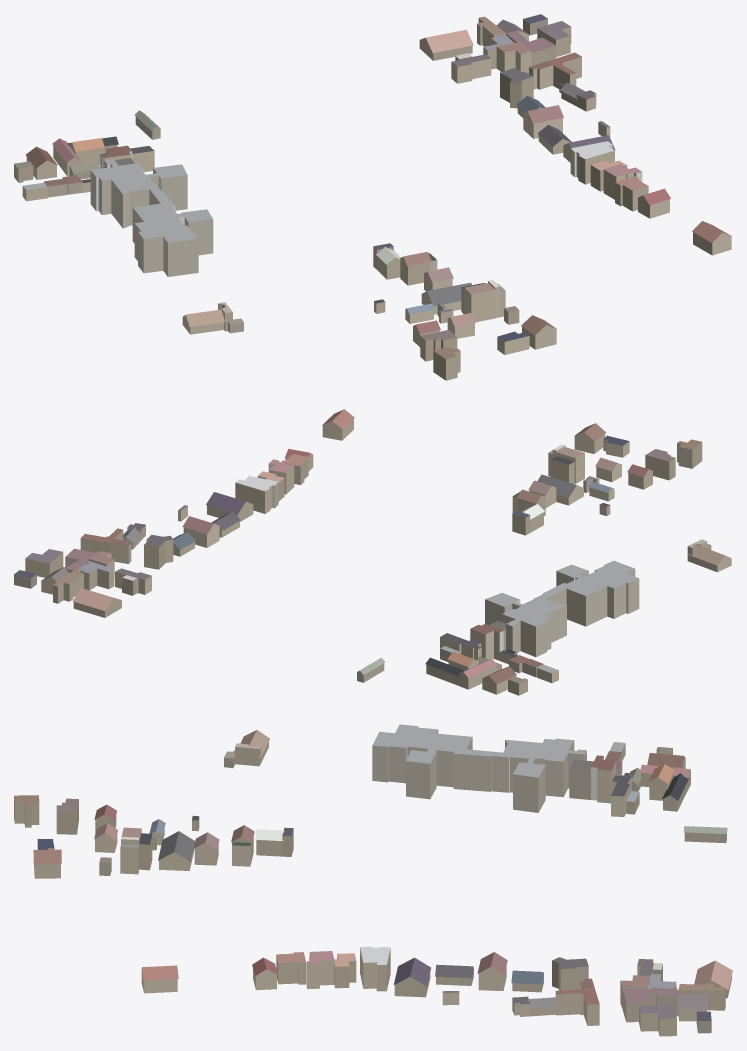
3 renders of one model, top to bottom at view 1: azimuth 30°, elevation 25°; view 2: azimuth 150°, elevation 25°; view 3: azimuth 270°, elevation 25°, orthographic. The views are drawn at different scales.
Parts seen in each view (by area): view 1: tuile; view 2: tuile; view 3: tuile.
Boxes of the visible parts, <box> form: tuile: <box>14,14,731,380</box>; tuile: <box>14,409,731,695</box>; tuile: <box>14,724,732,1036</box>.
Bounding box in the file's own units: 249 × 15.41 × 257.
